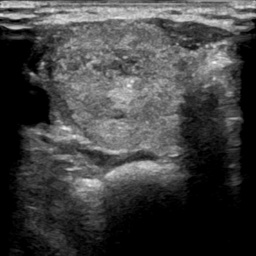mass: (39, 22, 182, 157)
